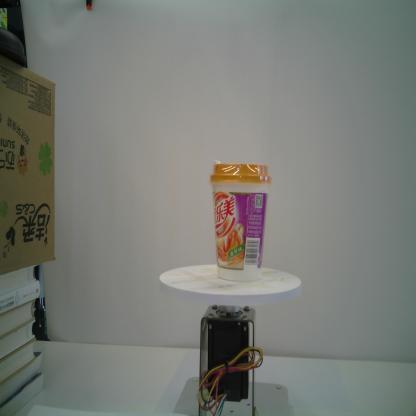Instant Drink: (208, 161, 272, 283)
